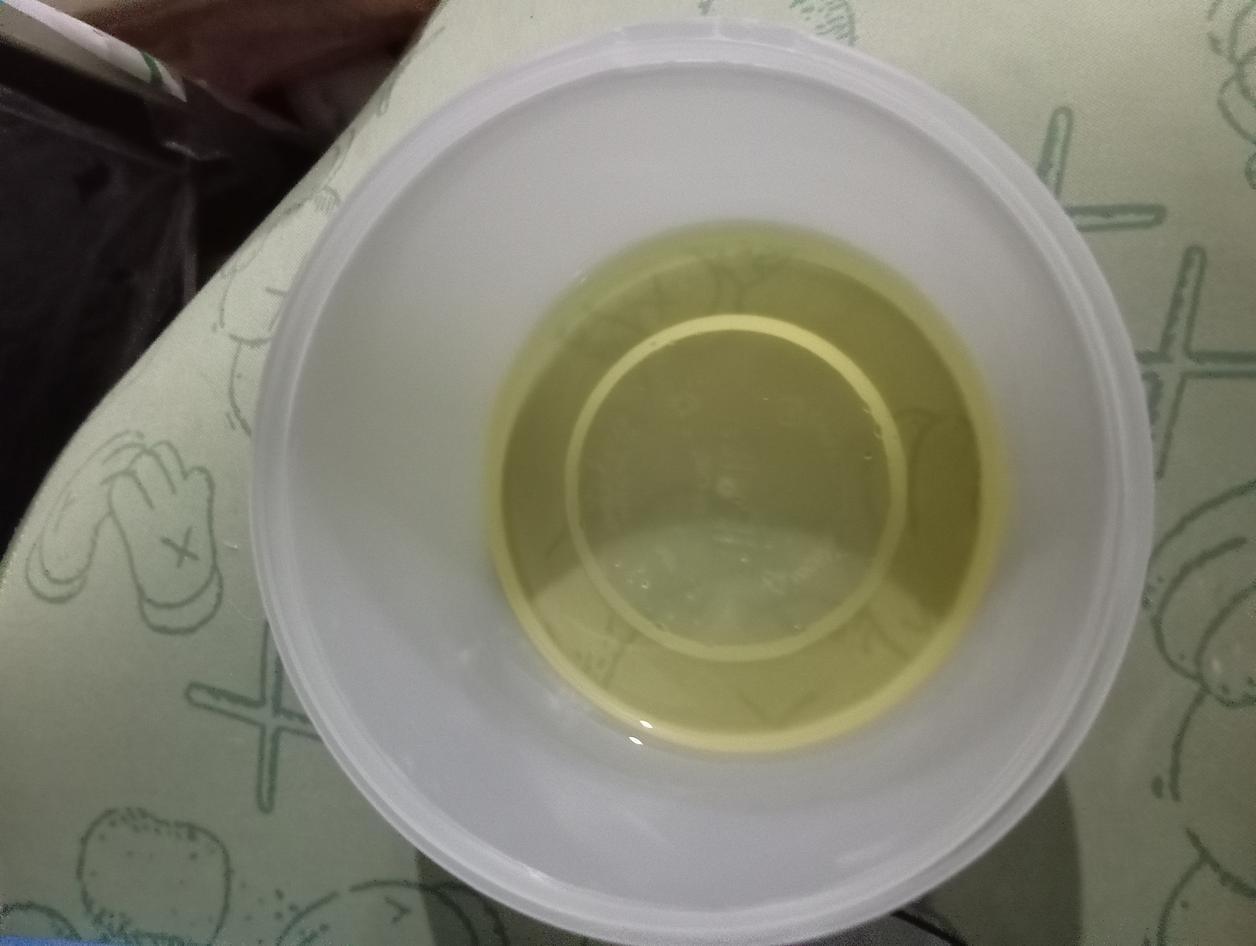reusable: (487, 222, 1004, 750)
